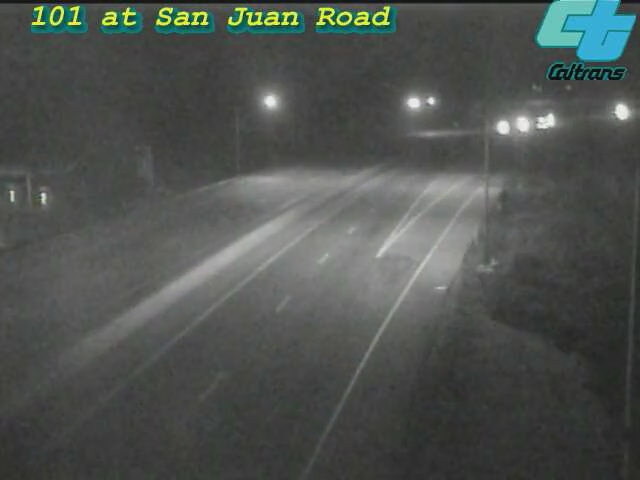vehicle: (517, 98, 567, 148), (478, 102, 528, 152), (526, 94, 576, 144), (498, 100, 548, 150), (592, 86, 640, 136), (601, 88, 640, 138)
